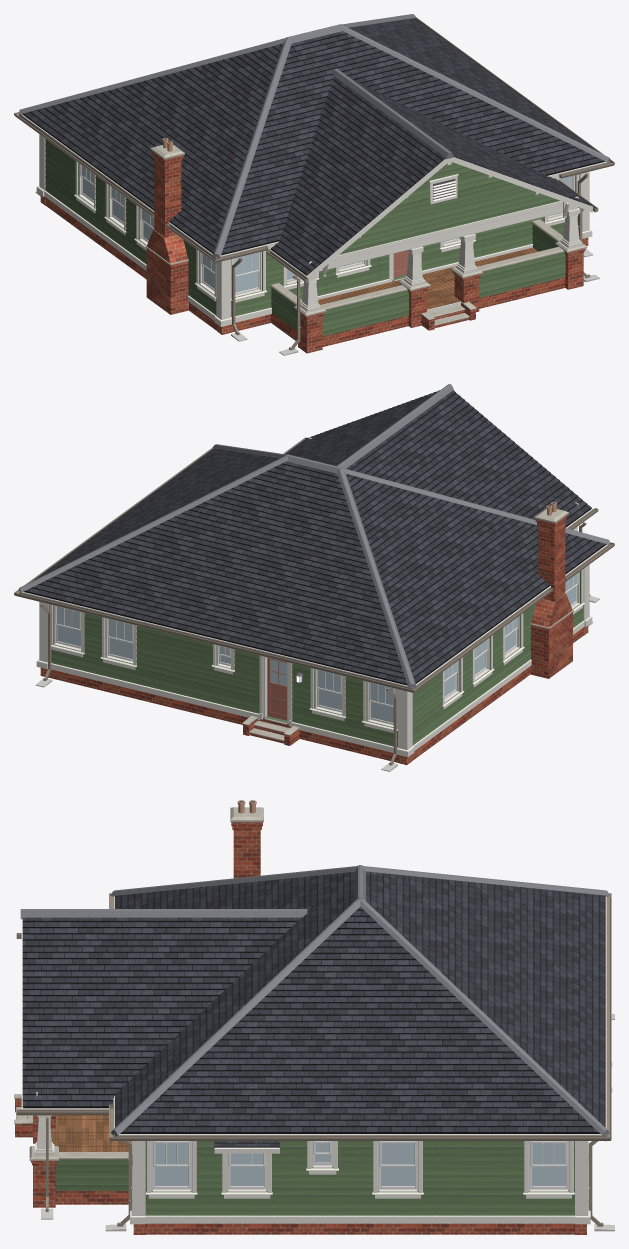
File: building_assembled.glb
3 renders of one model, top to bottom at view 1: azimuth 30°, elevation 25°; view 2: azimuth 150°, elevation 25°; view 3: azimuth 270°, elevation 25°, orthographic. The views are drawn at different scales.
Parts seen in each view (by area): view 1: building_shingles, building_siding, building_trim, building_brick, building_ridge, building_gutter, building_cap, building_glass, building_deck, building_sash, building_frame; view 2: building_shingles, building_siding, building_trim, building_brick, building_ridge, building_glass, building_gutter, building_sash, building_frame, building_cap, building_door; view 3: building_shingles, building_siding, building_trim, building_ridge, building_brick, building_gutter, building_glass, building_sash, building_deck, building_cap, building_frame.
Part boxes in pixels (box(x1,y1,x2,y2)): building_shingles: box(22, 18, 604, 275); building_siding: box(45, 139, 579, 336); building_trim: box(21, 114, 609, 326); building_brick: box(40, 151, 588, 353); building_ridge: box(18, 14, 610, 258); building_gutter: box(14, 17, 614, 350); building_cap: box(145, 144, 587, 325); building_glass: box(81, 165, 571, 292); building_deck: box(318, 247, 538, 309); building_sash: box(80, 164, 573, 294); building_frame: box(79, 163, 575, 290); building_shingles: box(23, 390, 606, 685); building_siding: box(49, 571, 583, 747); building_trim: box(19, 437, 607, 757); building_brick: box(40, 515, 588, 764); building_ridge: box(18, 384, 610, 688); building_glass: box(57, 573, 577, 722); building_gutter: box(14, 437, 614, 765); building_sash: box(55, 572, 578, 724); building_frame: box(53, 571, 579, 723); building_cap: box(242, 508, 573, 740); building_door: box(267, 658, 287, 720); building_shingles: box(22, 871, 605, 1147); building_siding: box(55, 1141, 574, 1215); building_trim: box(21, 896, 606, 1224); building_ridge: box(20, 865, 609, 1136); building_brick: box(15, 822, 586, 1234); building_gutter: box(16, 893, 611, 1226); building_glass: box(154, 1143, 565, 1186); building_sash: box(153, 1141, 567, 1189); building_deck: box(51, 1115, 131, 1151); building_cap: box(14, 807, 612, 1160); building_frame: box(151, 1141, 569, 1191).
Bounding box in the file's own units: 15.47 × 7.06 × 15.93.
23 materials, 7 textured.
